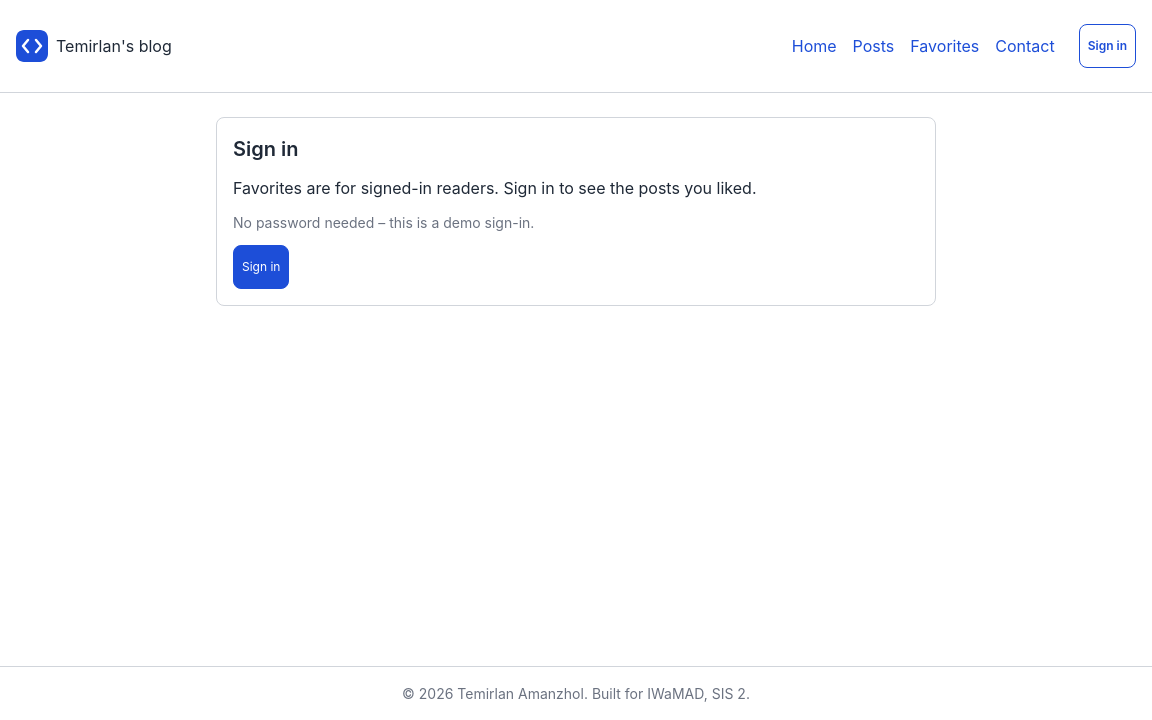
Test: the protected page shows sign-in when signed out, and opens after signing in
Expected: the heading "Sign in" is shown, [233,137,298,161]
Expected: the heading "Your favorites" is not shown
The Sign in button on the page (the Header has a Sign in link, not a button)
Click the button "Sign in". click: (261,267)
box: [233,245,289,289]
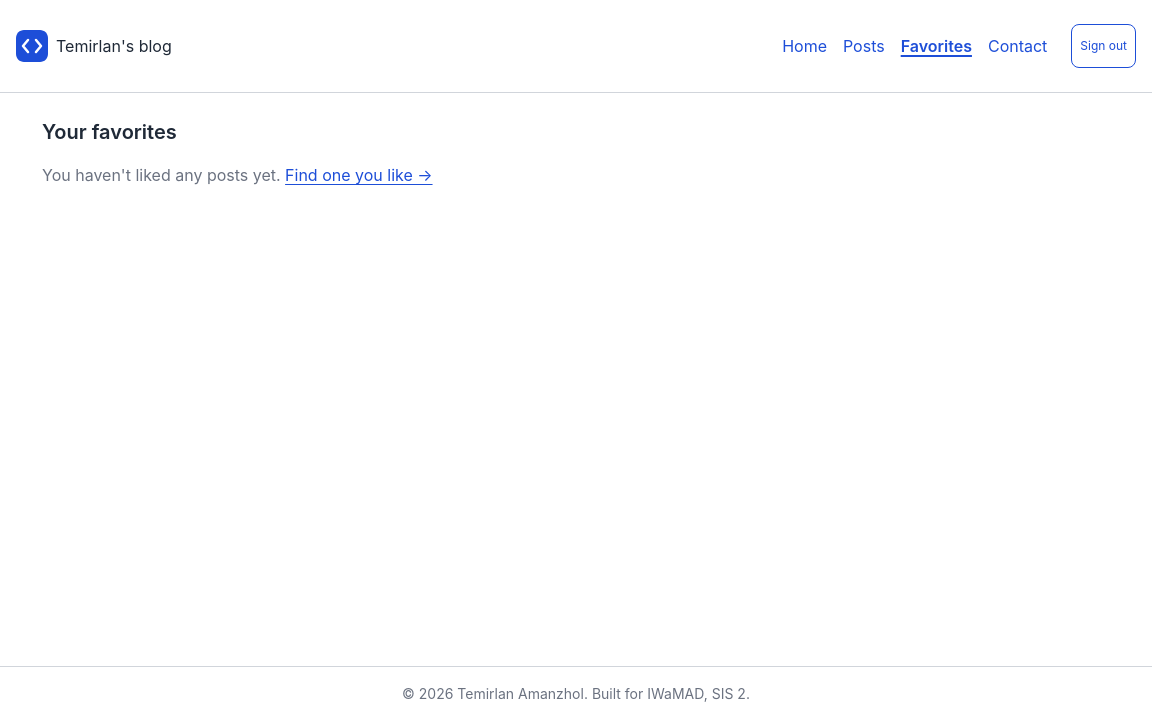
Now the heading "Your favorites" is shown, box [42,120,177,144]
After signing out the page is protected again
Click the button "Sign out". click: (1104,46)
box: [1071,24,1136,68]
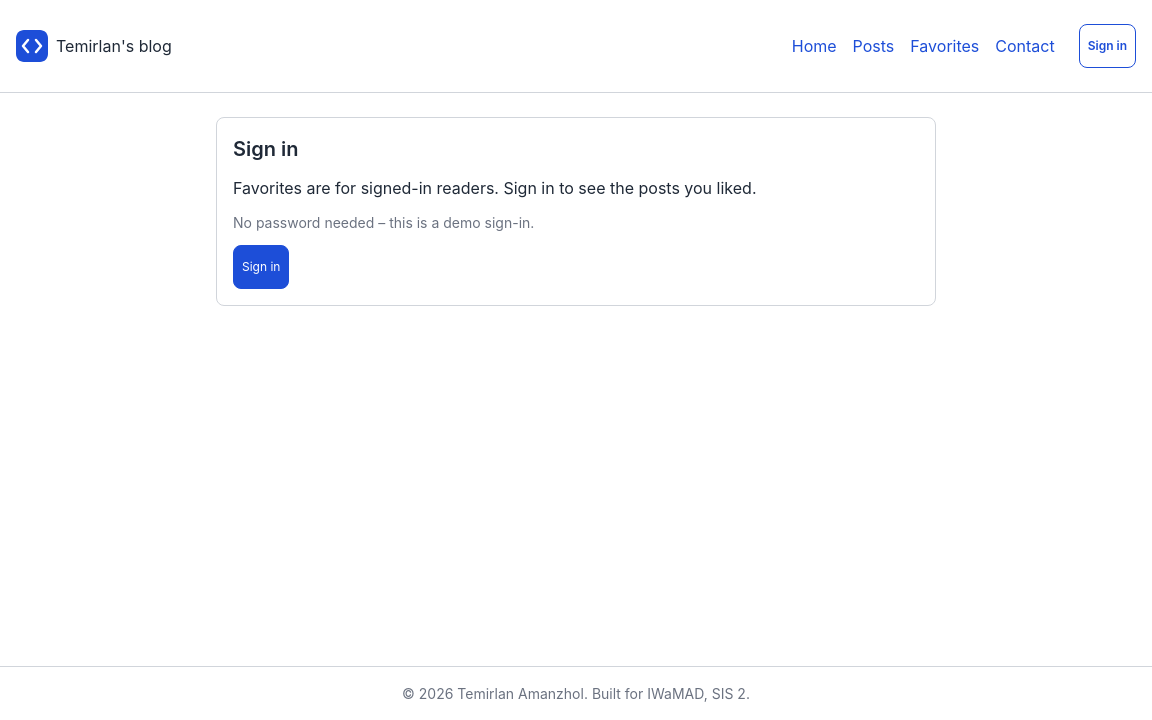
Now the heading "Sign in" is shown, box [233,137,298,161]
